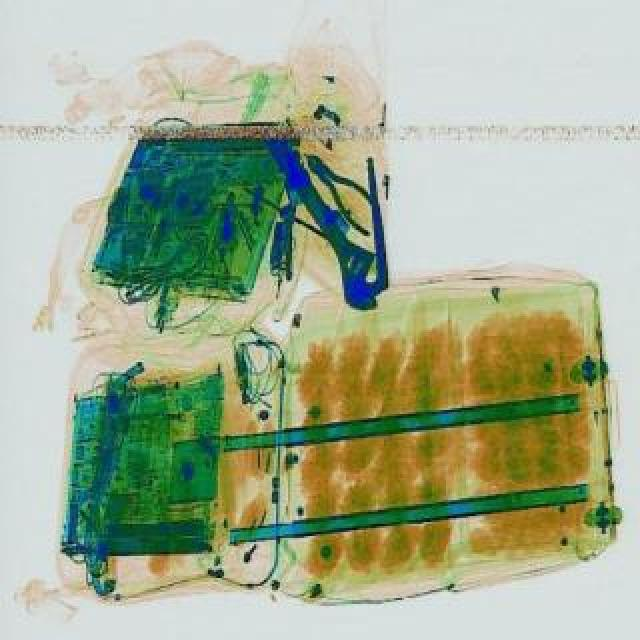scissors: (244, 114, 400, 318)
wrench: (290, 140, 390, 240)
